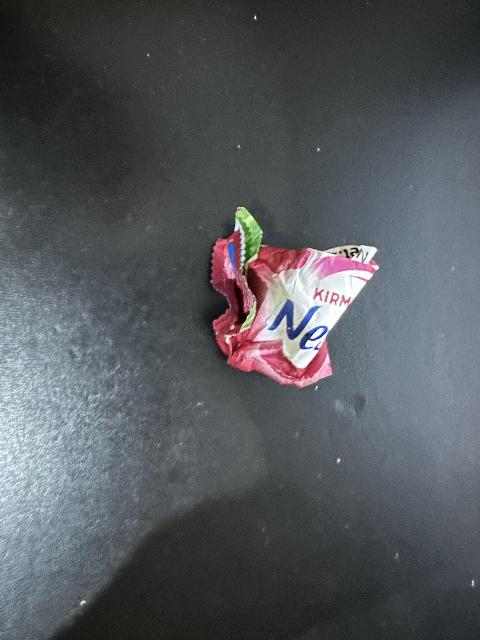Plastik: (205, 214, 381, 392)
